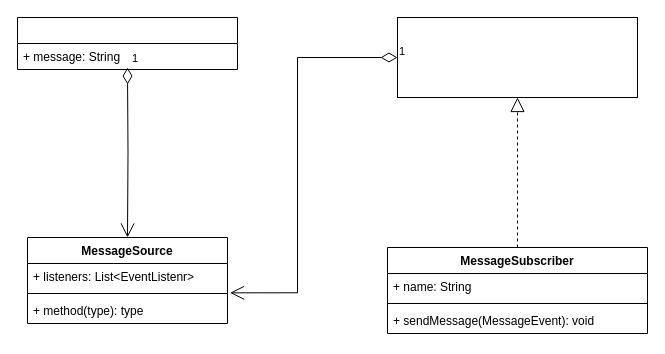
Some shapes in this 665 by 354 pixel diagram are drawn without their labels. The shapes that lost their labels are listed below. From the top down, each one's box as (x1, y1, x2, y2) in pixels, then its label:
(16, 16, 238, 70): MessageEvent
(396, 16, 638, 98): <<Interface>> EventListener + onmassageRecive(MessageEvent): void
